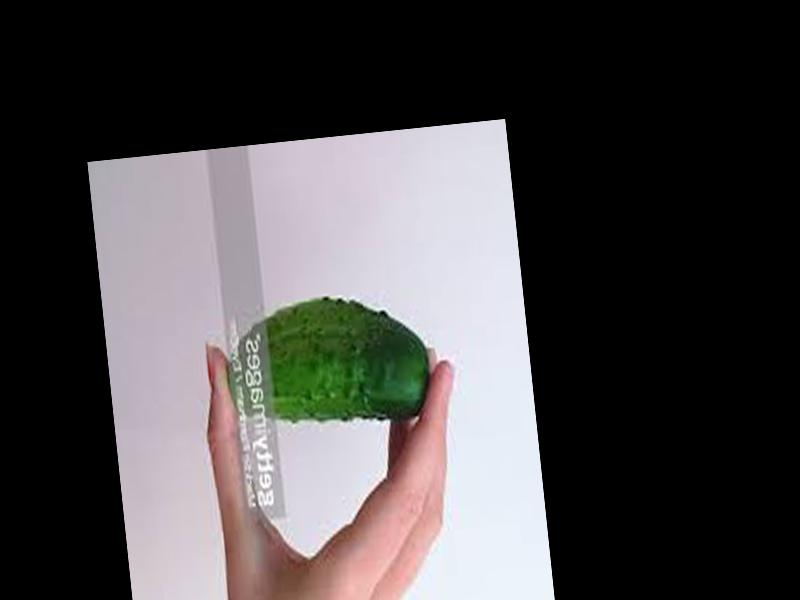Cucumber: (219, 286, 434, 435)
